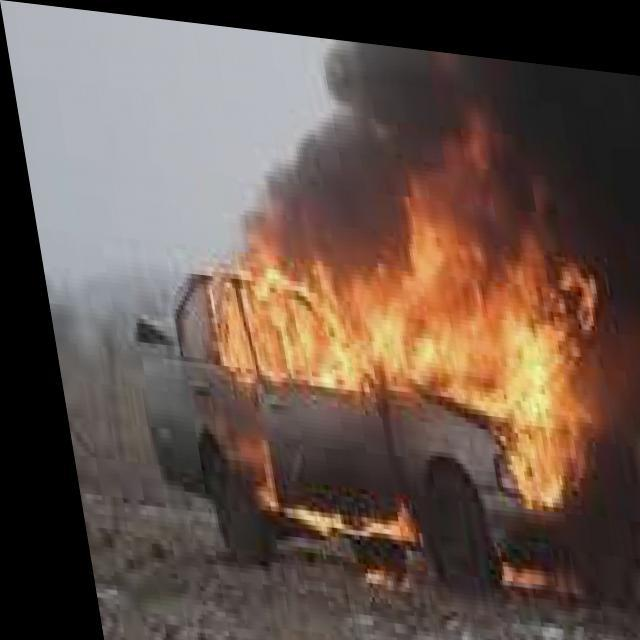Fire: (184, 97, 609, 516)
